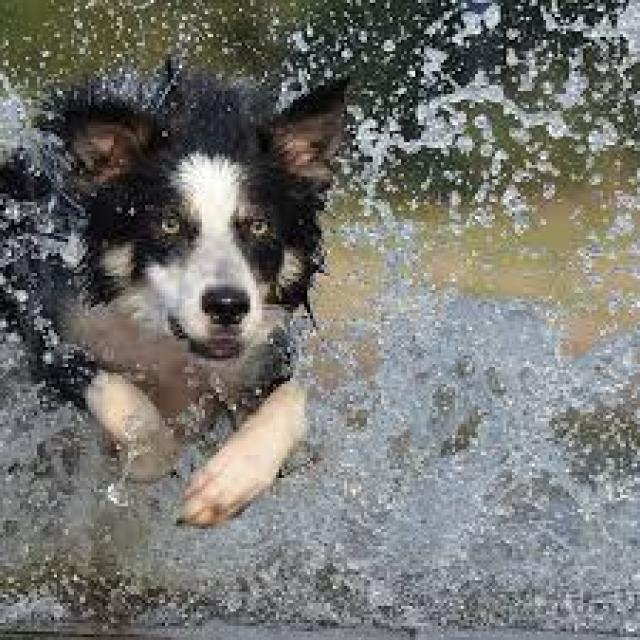ALASKAN_MALAMUTE: (10, 56, 365, 521)
